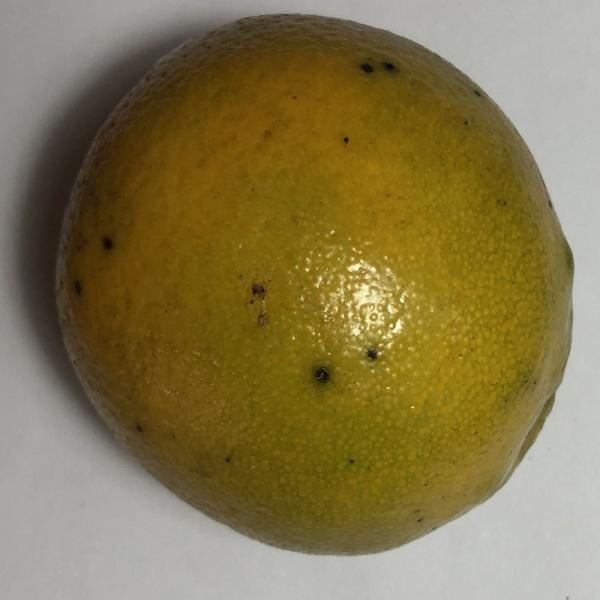Machas negras: (46, 0, 583, 559)
